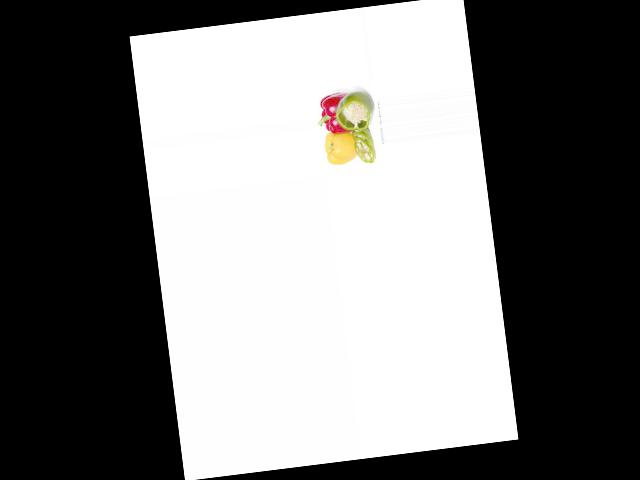bell_pepper: (332, 86, 374, 133)
